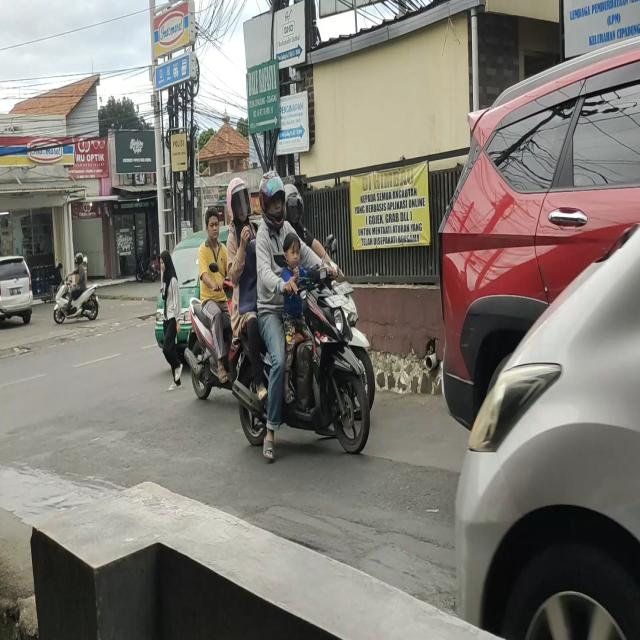helmet: (260, 175, 286, 223), (226, 178, 252, 222), (285, 184, 303, 221)
no-helmet: (283, 232, 303, 267), (206, 207, 220, 240)
